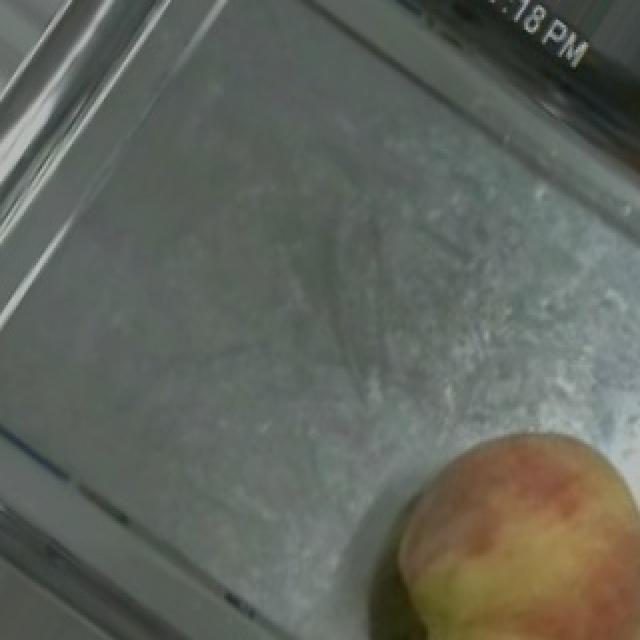Fruit: (358, 397, 640, 640)
